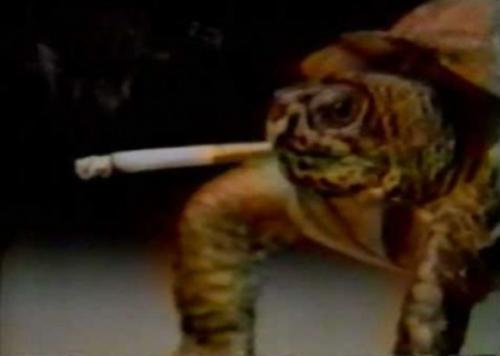Cigarette: (76, 140, 270, 178)
